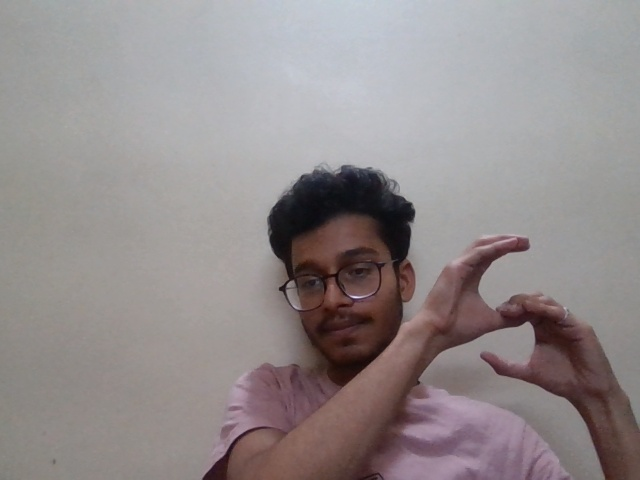S: (420, 229, 621, 418)
